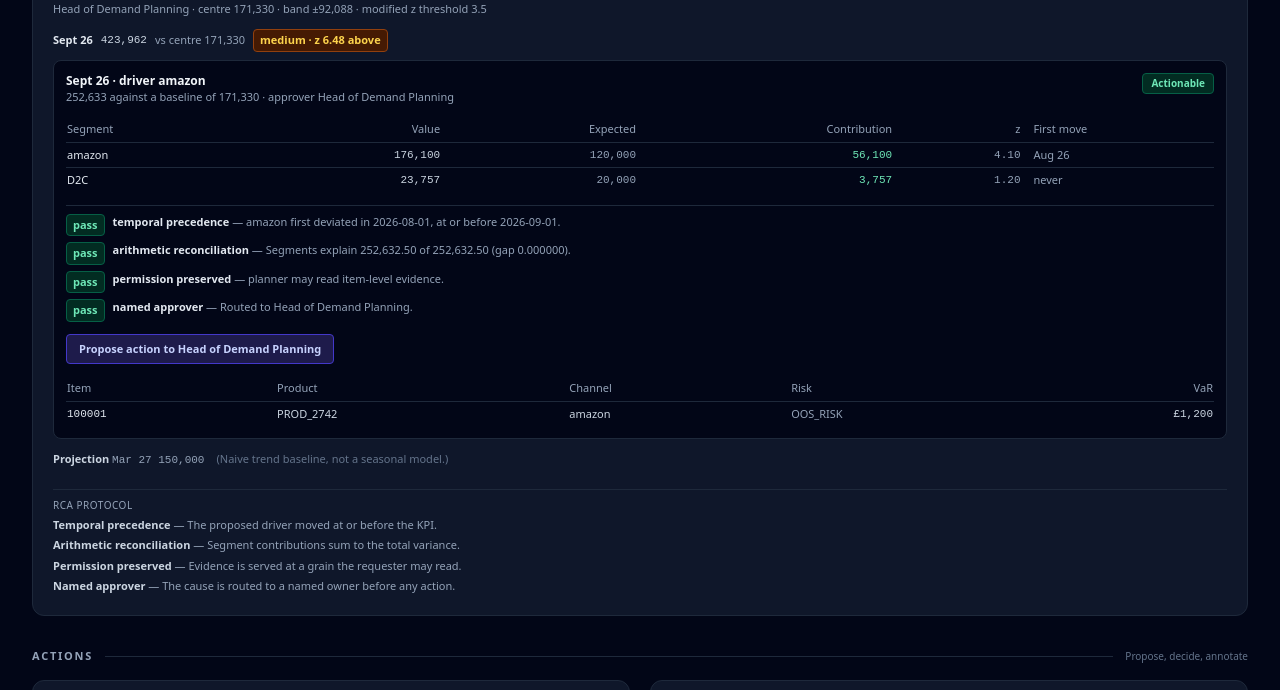
Test: BiPage › proposes an action from an actionable cause
(page scrolled)
Click the button with test id "bi-rca-propose-plan_qty-2026-09-01". click: x=200, y=349
box: [66,334,334,364]
(page scrolled)
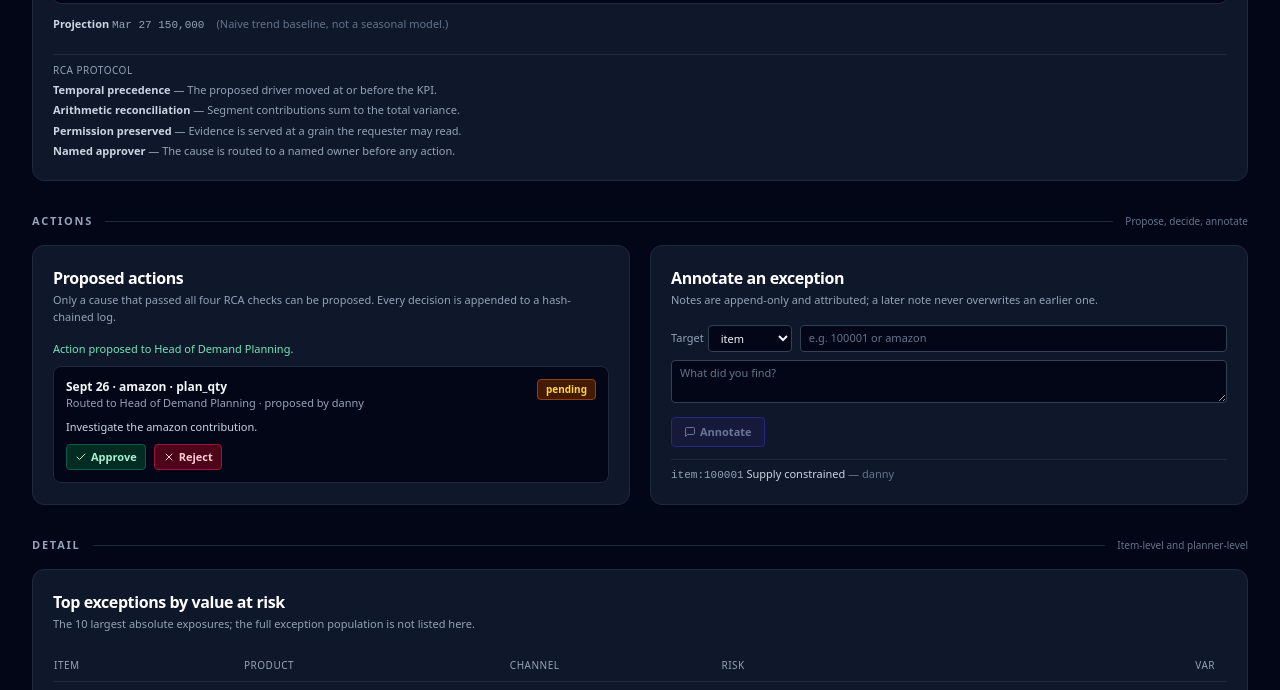
Result: the text with test id "bi-writeback-notice" shows "Head of Demand Planning" at [53,341,293,356]
